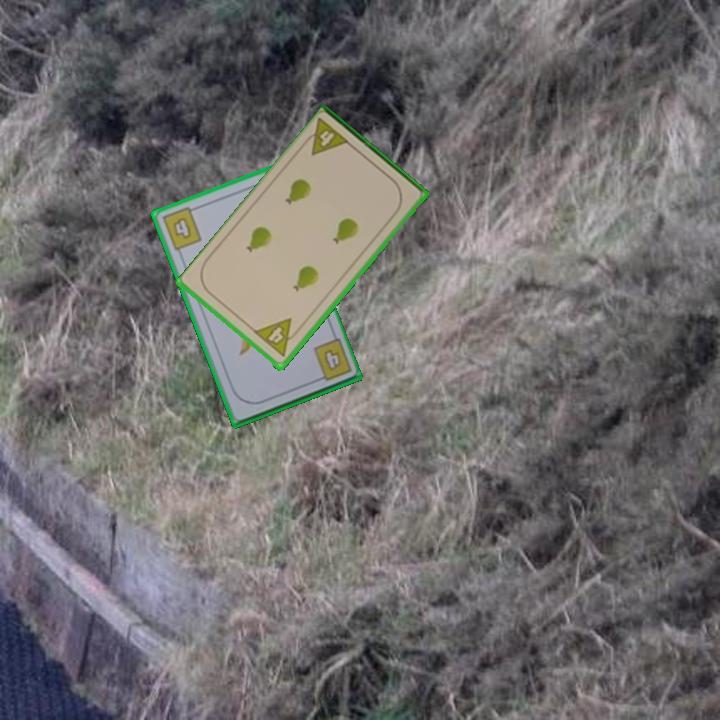4b: (158, 203, 204, 254), (310, 335, 354, 385)
4p: (298, 115, 353, 159), (251, 315, 304, 360)
